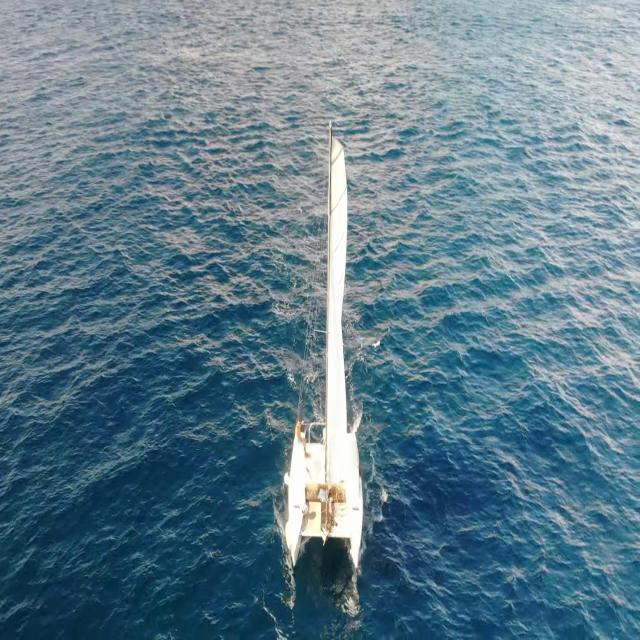sailboat: (284, 125, 376, 595)
